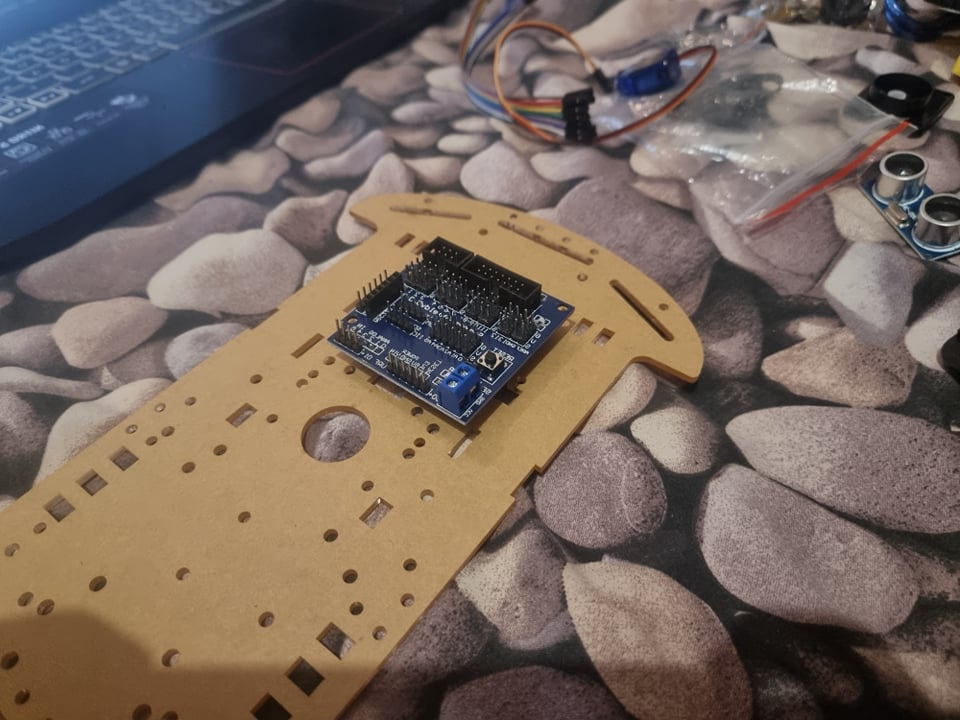5V EXPANSION: (327, 233, 574, 427)
SENSOR: (861, 154, 959, 264)
